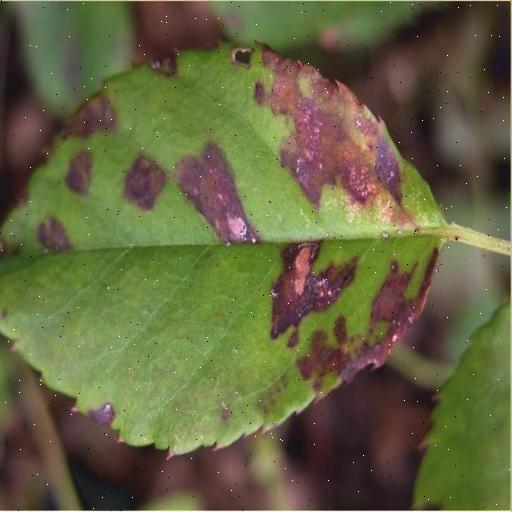downy_mildew: (0, 46, 444, 453)
